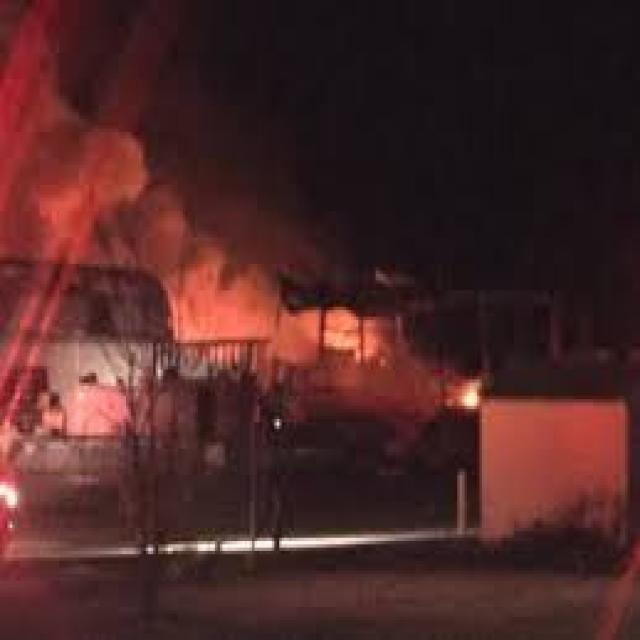Smoke: (1, 90, 154, 268), (152, 212, 275, 334)
